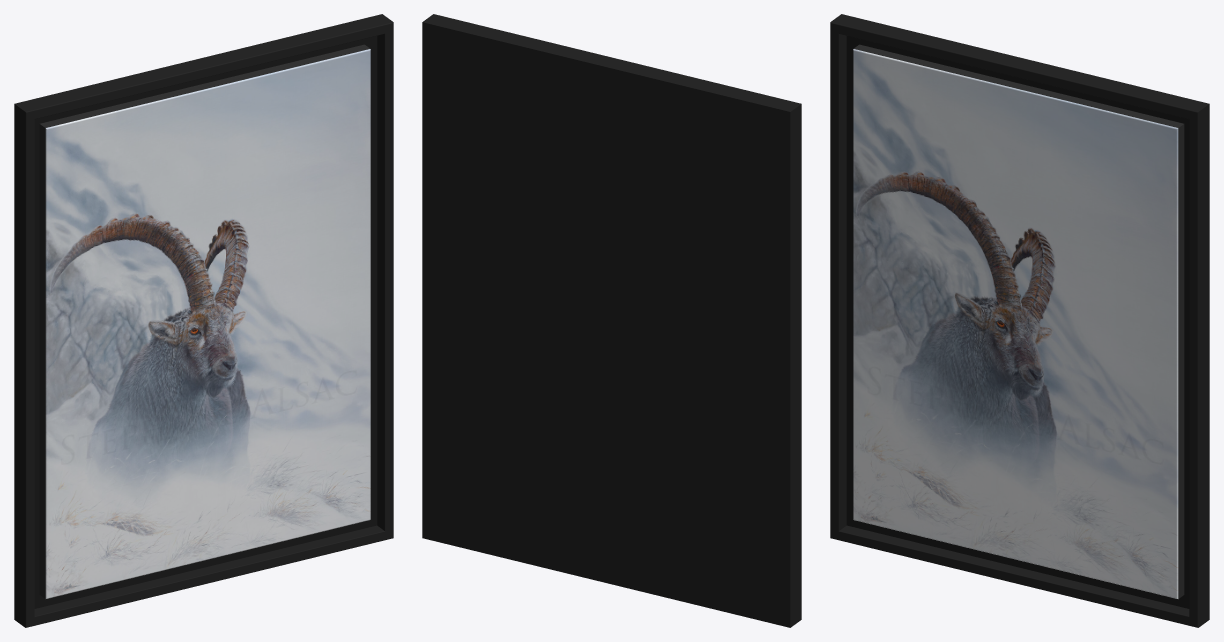
File: tableau-peinture-ibex-classique-8c06162a.glb
3 views of the same model, side by side, from view 1: azimuth 30°, elevation 25°; view 2: azimuth 150°, elevation 25°; view 3: azimuth 330°, elevation 25° (orthographic).
Visible parts, largest first — view 1: Painting; view 2: Painting; view 3: Painting.
Part boxes in pixels (x1,y1,x2,y2): Painting: [14, 14, 393, 627]; Painting: [422, 14, 801, 627]; Painting: [830, 14, 1209, 627].
Size of the model in its own units: 0.736 by 0.986 by 0.04.
4 materials, 2 textured.
